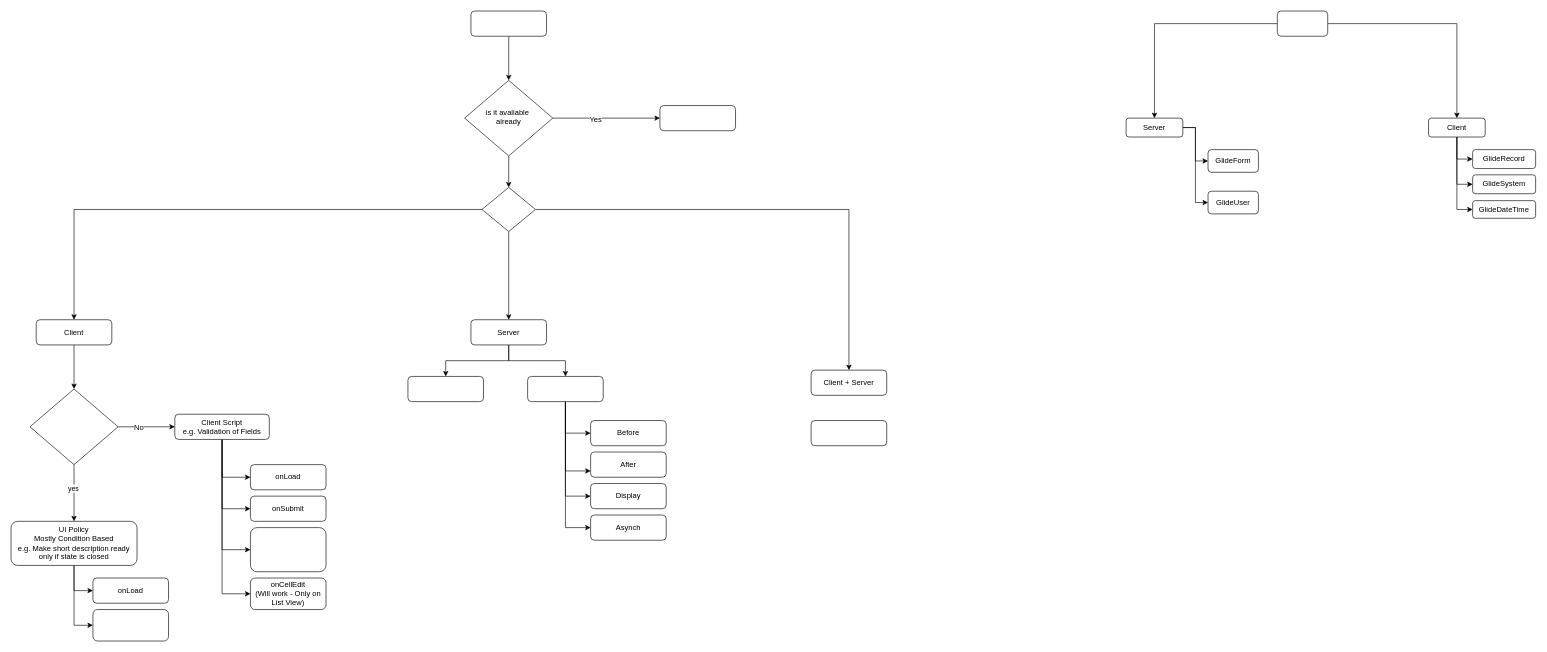
Image size: 1547x652. Some labels were removed from this diagram. Each missing label, with the centre of its shape:
"API's" belongs at (1302,23).
"Business Rules (CRUD)" belongs at (565,389).
"Data Policy" belongs at (445,389).
"Mark field as Read Only Visible Mandatory" belongs at (73,426).
"onChange" belongs at (130,625).
"onChange - field specefic Get access to Old and New Value" belongs at (288,549).
"Scripts" belongs at (508,23).
"UI Policy" belongs at (848,433).
"Use it" belongs at (697,118).
"which one" belongs at (508,209).
